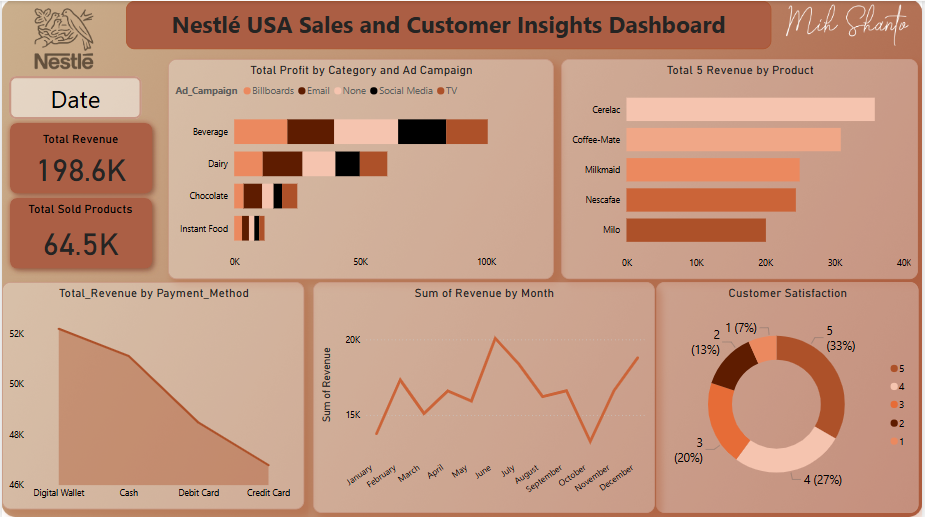

Layout of this report page (visuals, bound fields, positions):
{"tool":"powerbi","page":{"name":"Page 1","canvas":[1280,720],"ordinal":0},"visuals":[{"type":"barChart","title":"Total Profit by Category and Ad Campaign","fields":{"Category":["SalesData.Category"],"Series":["SalesData.Ad_Campaign"],"Y":["Measures .Total_Revenue"]},"box":[231.4,80.5,536,306.1],"z":0},{"type":"shape","box":[0,262.2,219.7,120.1],"z":1000},{"type":"card","title":"Total Sold Products","fields":{"Values":["Sum(SalesData.Units_Sold)"]},"box":[4.4,278.3,209.4,92.3],"z":2000},{"type":"clusteredBarChart","title":"Total 5 Revenue by Product","fields":{"Y":["Measures .Total_Revenue"],"Category":["SalesData.Product_Name"]},"box":[777.7,80.5,496.5,306.1],"z":3000},{"type":"shape","box":[0,158.2,220,120],"z":4000},{"type":"textbox","box":[172.4,0,896.5,66.7],"z":5000},{"type":"image","box":[0,0,172.4,104.2],"z":6000},{"type":"image","box":[1068.9,0,211.3,66.7],"z":7000},{"type":"actionButton","box":[10.3,104,184.5,60],"z":8000},{"type":"card","title":"Total Revenue","fields":{"Values":["Measures .Total_Revenue"]},"box":[10.3,180.1,199.2,82],"z":9000},{"type":"donutChart","title":"Customer Satisfaction ","fields":{"Category":["SalesData.Customer_Satisfaction"],"Y":["Median(SalesData.Customer_Satisfaction)"]},"box":[909.5,391,364.7,320.7],"z":11000},{"type":"lineChart","fields":{"Category":["SalesData.Date.Variation.Date Hierarchy.Month"],"Y":["Sum(SalesData.Revenue)"]},"box":[432,391,474.5,320.7],"z":12000},{"type":"areaChart","fields":{"Category":["SalesData.Payment_Method"],"Y":["Measures .Total_Revenue"]},"box":[0,391,420.3,316.3],"z":13000}]}

Visuals, with their boxes in screenshot pixels (x1, y1, x2, y2), scaled from the page's 1280x720 canvas onto the 925x517 screenshot:
"Total Profit by Category and Ad Campaign" barChart: {"left": 167, "top": 58, "right": 555, "bottom": 278}
shape: {"left": 0, "top": 188, "right": 159, "bottom": 275}
"Total Sold Products" card: {"left": 3, "top": 200, "right": 155, "bottom": 266}
"Total 5 Revenue by Product" clusteredBarChart: {"left": 562, "top": 58, "right": 921, "bottom": 278}
shape: {"left": 0, "top": 114, "right": 159, "bottom": 200}
textbox: {"left": 125, "top": 0, "right": 772, "bottom": 48}
image: {"left": 0, "top": 0, "right": 125, "bottom": 75}
image: {"left": 772, "top": 0, "right": 924, "bottom": 48}
actionButton: {"left": 7, "top": 75, "right": 141, "bottom": 118}
"Total Revenue" card: {"left": 7, "top": 129, "right": 151, "bottom": 188}
"Customer Satisfaction " donutChart: {"left": 657, "top": 281, "right": 921, "bottom": 511}
lineChart - SalesData.Date.Variation.Date Hierarchy.Month x Sum(SalesData.Revenue): {"left": 312, "top": 281, "right": 655, "bottom": 511}
areaChart - SalesData.Payment_Method x Measures .Total_Revenue: {"left": 0, "top": 281, "right": 304, "bottom": 508}
